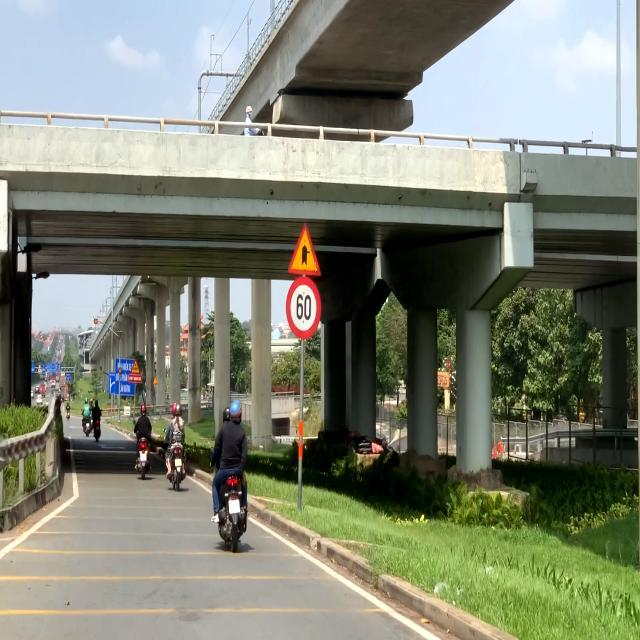Di cham: (131, 359, 140, 374)
Giao nhau voi duong khong uu tien ben phai: (287, 222, 322, 278)
Toc do toi da cho phep: (285, 276, 322, 340)
